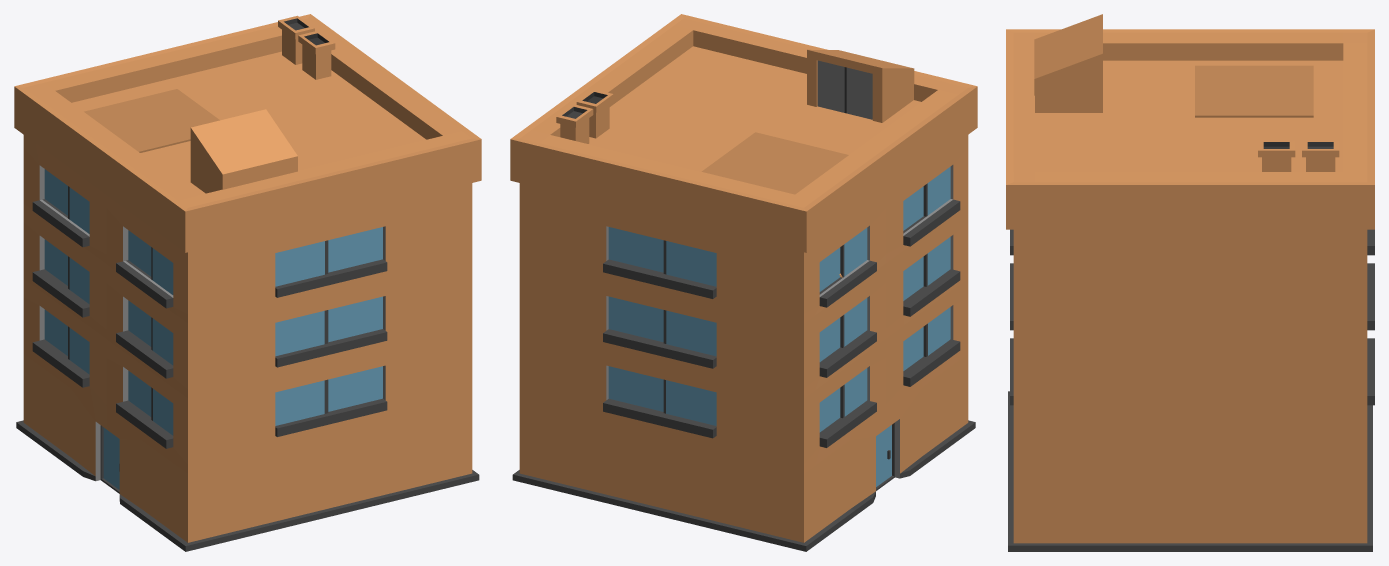
File: predio1.1.fbx
3 renders of one model, left to right at view 1: azimuth 30°, elevation 25°; view 2: azimuth 150°, elevation 25°; view 3: azimuth 270°, elevation 25°, orthographic. The views are drawn at different scales.
Parts seen in each view (by area): view 1: Cube.055; view 2: Cube.055; view 3: Cube.055.
Part boxes in pixels (bbox=[...]): Cube.055: bbox=[14, 14, 481, 551]; Cube.055: bbox=[510, 14, 977, 551]; Cube.055: bbox=[1006, 14, 1374, 551].
Size of the model in its own units: 57.68 by 70.47 by 57.5.
